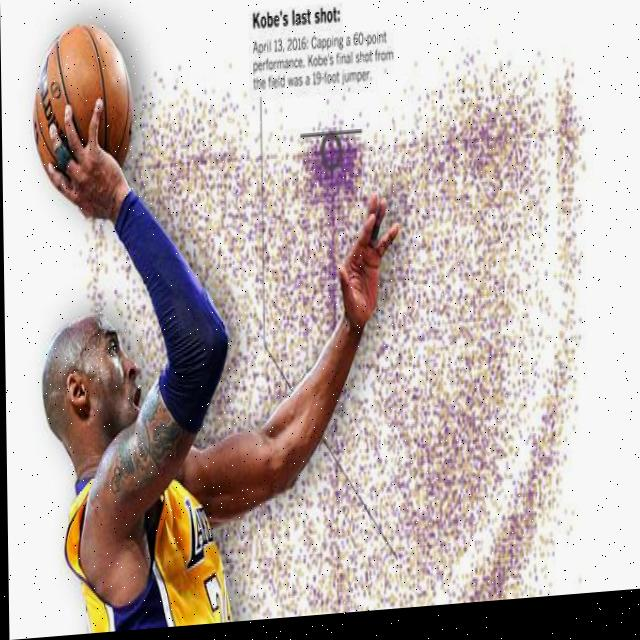basketball: (32, 18, 135, 190)
